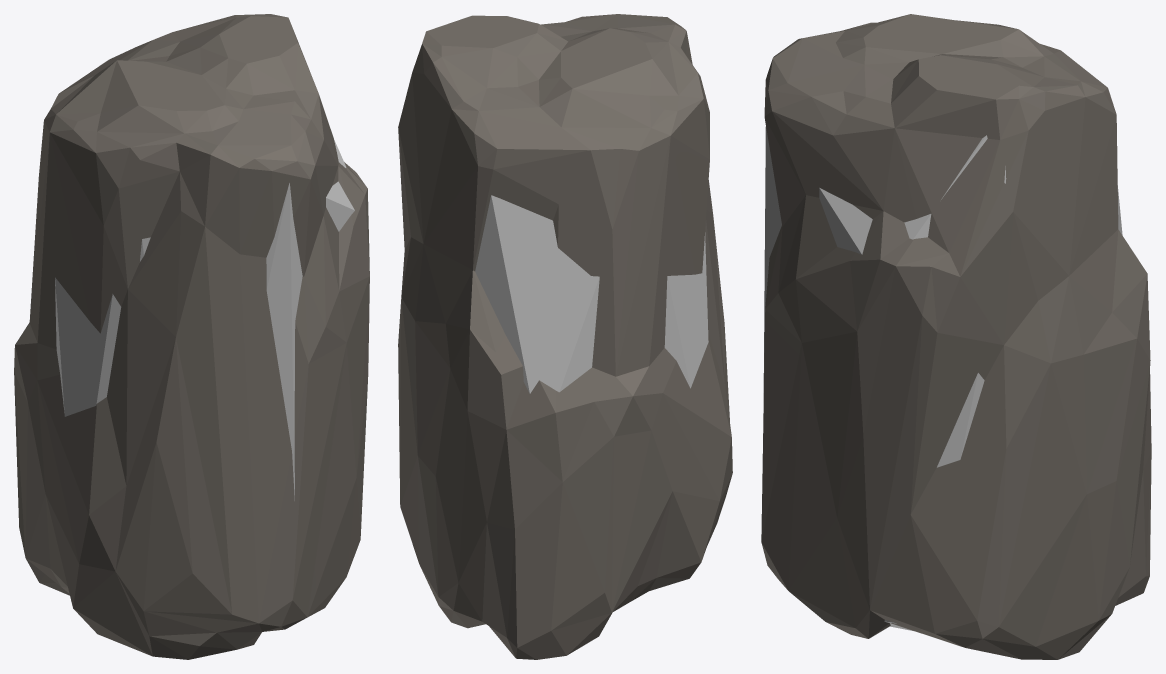
Rendered from SM_Env_Rock_Cliff_01a.fbx.
3 views of the same model, side by side, from view 1: azimuth 30°, elevation 25°; view 2: azimuth 150°, elevation 25°; view 3: azimuth 270°, elevation 25° (orthographic). The views are drawn at different scales.
Parts seen in each view (by area): view 1: SM_Env_Rock_Cliff_01a, SM_Env_Rock_Cliff_01a_ConvexHulls; view 2: SM_Env_Rock_Cliff_01a, SM_Env_Rock_Cliff_01a_ConvexHulls; view 3: SM_Env_Rock_Cliff_01a, SM_Env_Rock_Cliff_01a_ConvexHulls.
Boxes of the visible parts, left/top/right/bottom form: SM_Env_Rock_Cliff_01a: left=14, top=14, right=369, bottom=659; SM_Env_Rock_Cliff_01a_ConvexHulls: left=55, top=139, right=354, bottom=500; SM_Env_Rock_Cliff_01a: left=398, top=14, right=732, bottom=659; SM_Env_Rock_Cliff_01a_ConvexHulls: left=475, top=195, right=708, bottom=393; SM_Env_Rock_Cliff_01a: left=761, top=14, right=1151, bottom=659; SM_Env_Rock_Cliff_01a_ConvexHulls: left=763, top=127, right=1122, bottom=630.
Bounding box in the file's own units: 858 × 923 × 1537.
Materials: 2 (1 with a texture image).
